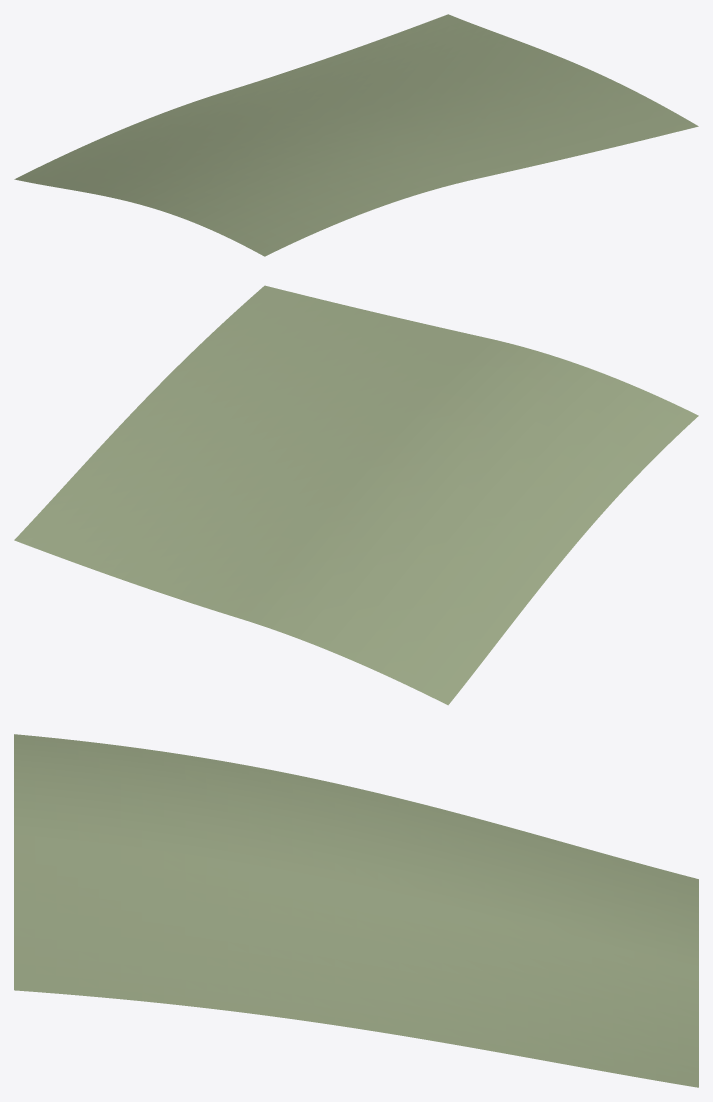
Rendered from expanse-26-11.glb.
3 renders of one model, top to bottom at view 1: azimuth 30°, elevation 25°; view 2: azimuth 150°, elevation 25°; view 3: azimuth 270°, elevation 25°, orthographic. The views are drawn at different scales.
Parts seen in each view (by area): view 1: expanse-26-11; view 2: expanse-26-11; view 3: expanse-26-11.
Boxes of the visible parts, left/top/right/bottom form: expanse-26-11: left=14, top=14, right=698, bottom=256; expanse-26-11: left=14, top=285, right=698, bottom=705; expanse-26-11: left=14, top=734, right=698, bottom=1087.
Size of the model in its own units: 256 by 74.6 by 256.
